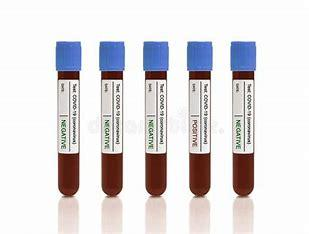Syringe: (134, 37, 179, 201), (50, 31, 85, 208), (223, 36, 259, 200), (94, 37, 126, 199), (186, 37, 215, 201)
